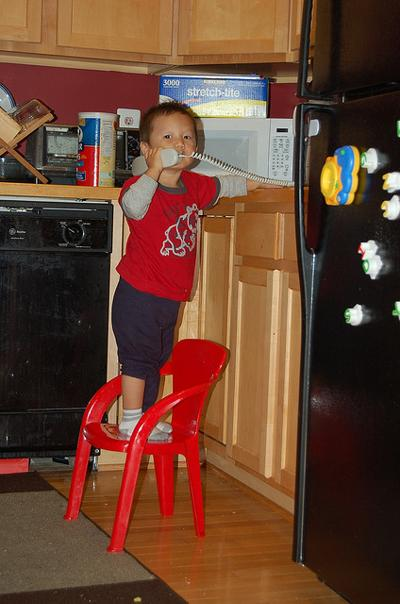person: (111, 102, 279, 442)
